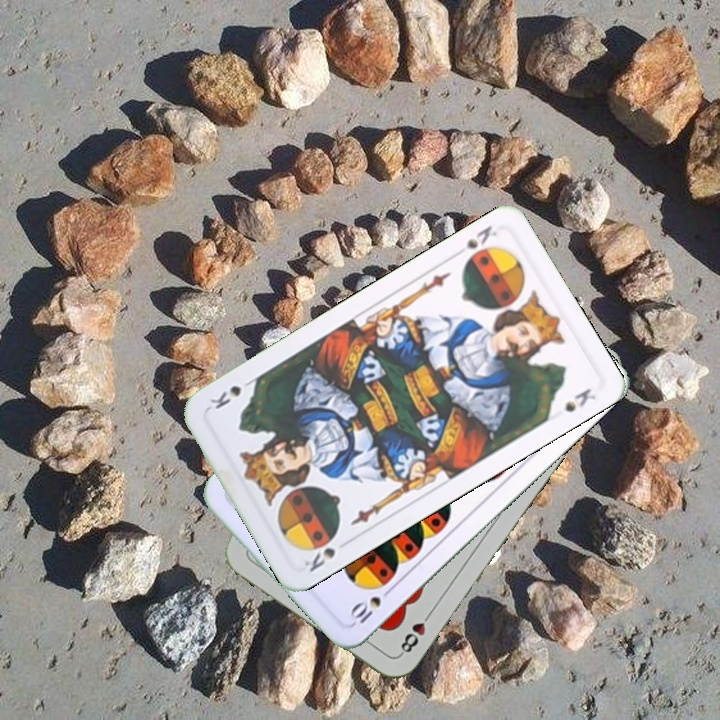H8: (395, 607, 435, 658)
S10: (346, 582, 396, 627)
SK: (449, 221, 500, 260), (300, 530, 340, 575)
